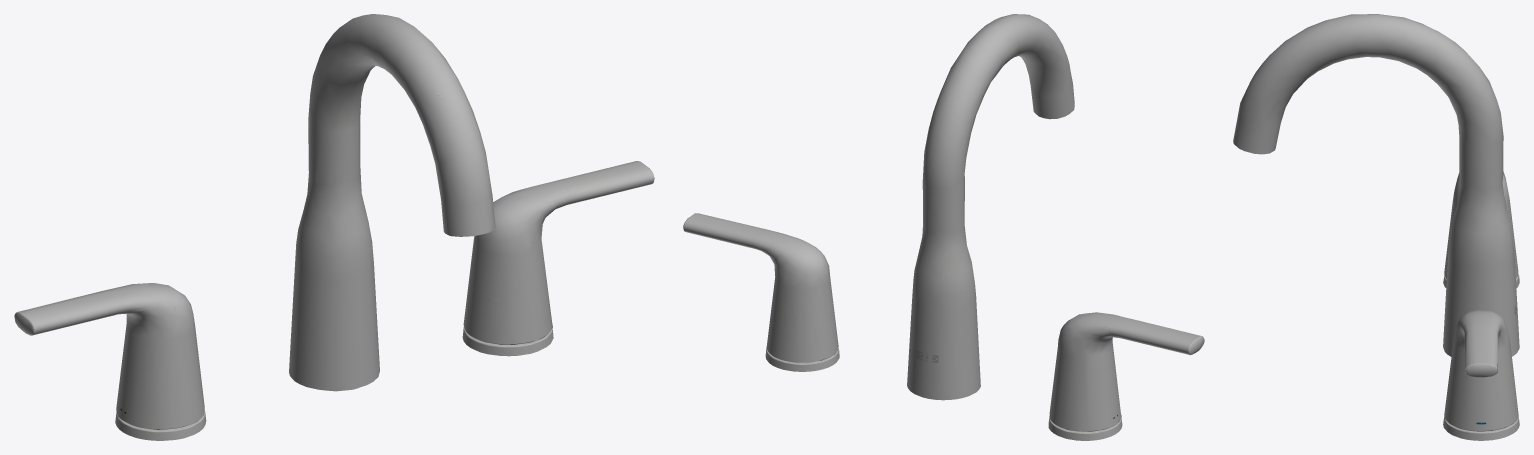
The model's file is macksjoen_widespread_sink_faucet_chrome_.glb.
3 views of the same model, side by side, from view 1: azimuth 30°, elevation 25°; view 2: azimuth 150°, elevation 25°; view 3: azimuth 270°, elevation 25° (orthographic). The views are drawn at different scales.
Visible parts, largest first — view 1: ASY_ART_50601363_S01_NV01; view 2: ASY_ART_50601363_S01_NV01; view 3: ASY_ART_50601363_S01_NV01.
Boxes of the visible parts, x1,y1,x2,y2 form: ASY_ART_50601363_S01_NV01: (14, 14, 654, 440); ASY_ART_50601363_S01_NV01: (683, 14, 1204, 440); ASY_ART_50601363_S01_NV01: (1233, 14, 1519, 440).
Size of the model in its own units: 0.3663 by 0.2258 by 0.173.
Materials: 2 (2 with a texture image).
